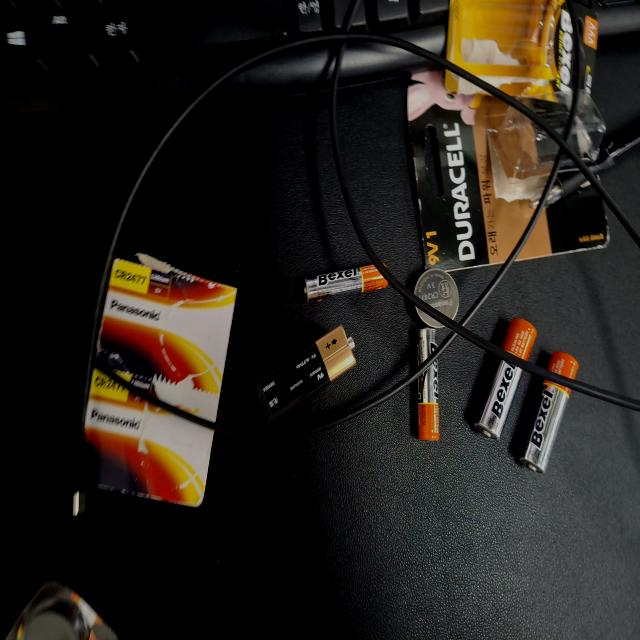9V: (162, 346, 236, 470)
AAA: (253, 398, 283, 516), (150, 552, 238, 586)
COIN: (234, 550, 280, 612)
